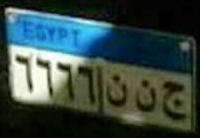6: (76, 64, 97, 104), (35, 56, 52, 99), (56, 62, 74, 99), (16, 55, 32, 91)
jeem: (160, 81, 186, 120)
noon: (105, 72, 129, 108), (134, 79, 156, 114)
